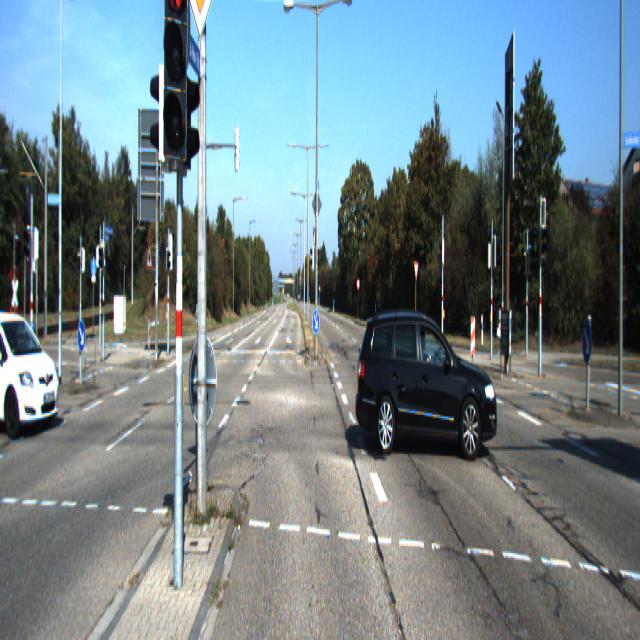Car: (355, 304, 500, 462), (0, 304, 65, 433)
